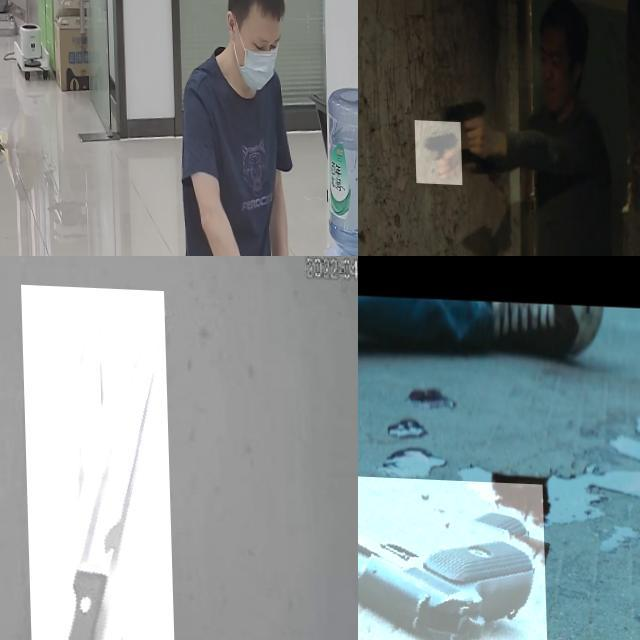-: (20, 282, 176, 640)
gun-knife-thesis - v11 Yolov5 augmented: (358, 469, 545, 640), (439, 88, 486, 156), (412, 117, 460, 182)
